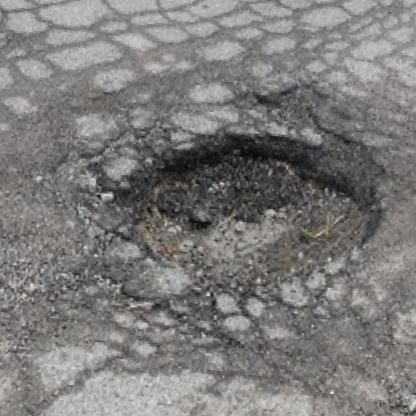pothole: (97, 101, 401, 317)
